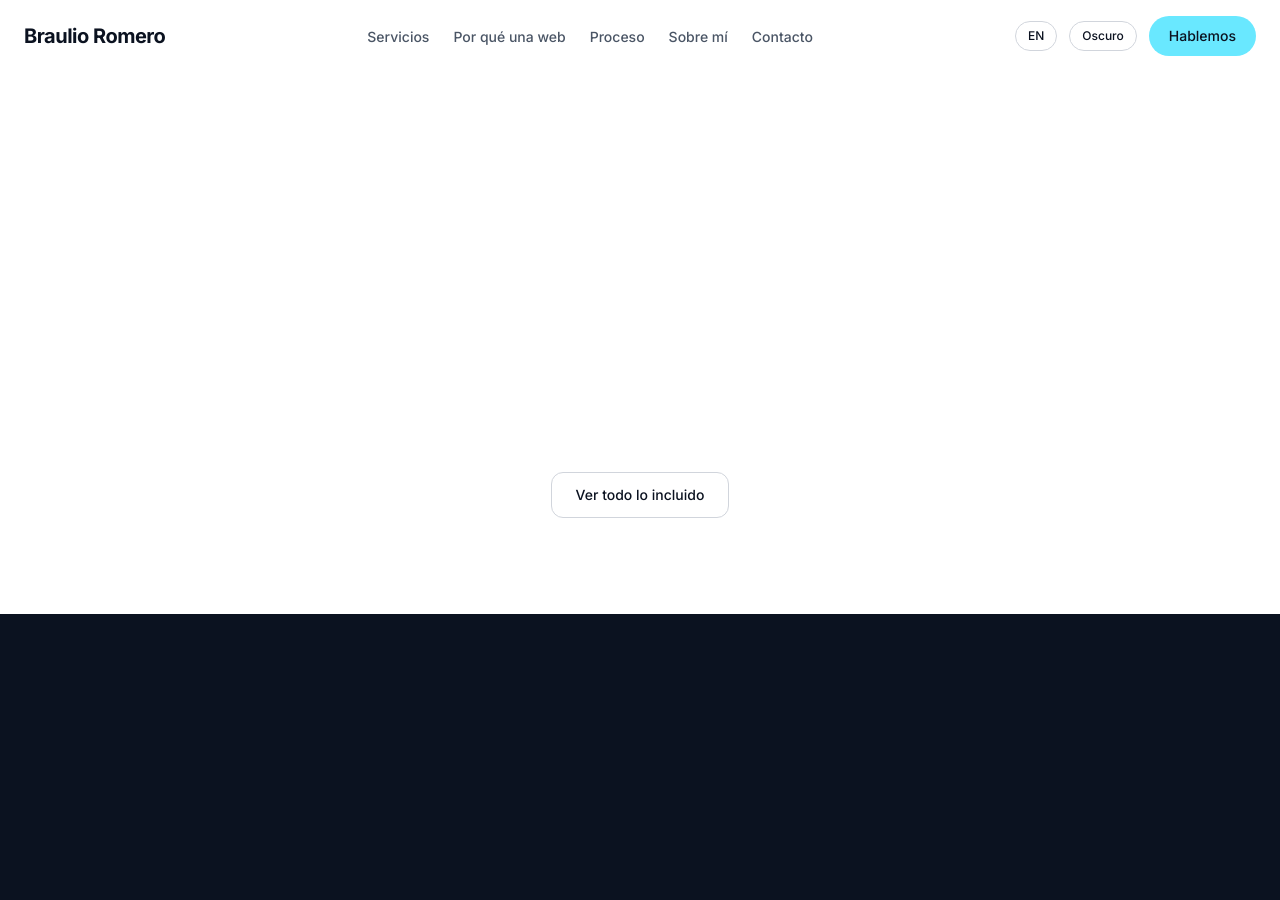
/services accessibility › has no axe violations with the comparison table open
The width and height of the screenshot is (1280, 900).
(page scrolled)
Click the button "Ver todo lo incluido" at [640, 495], box top-left (551, 472), bottom-right (729, 518)
(page scrolled)
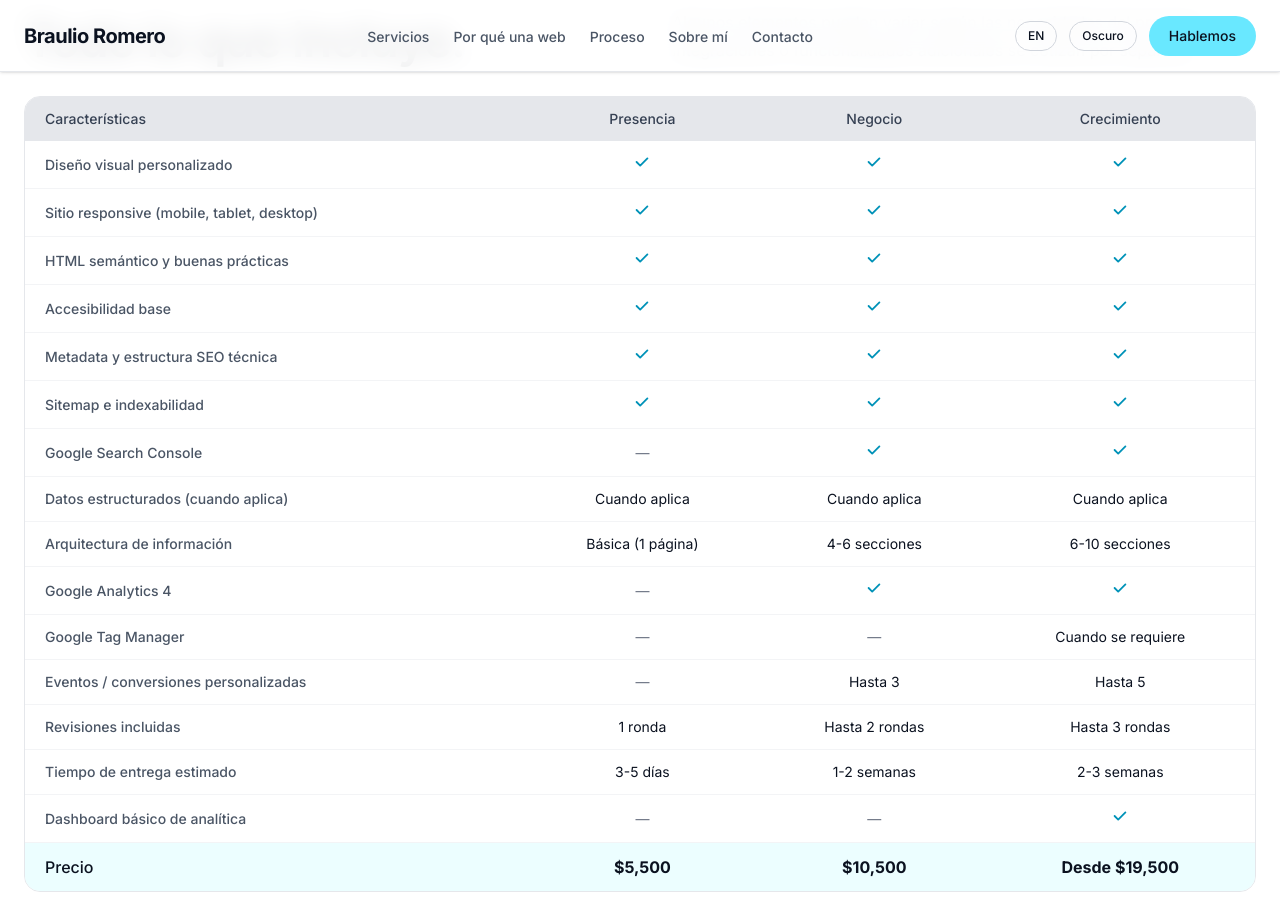
Expected: the table is shown
